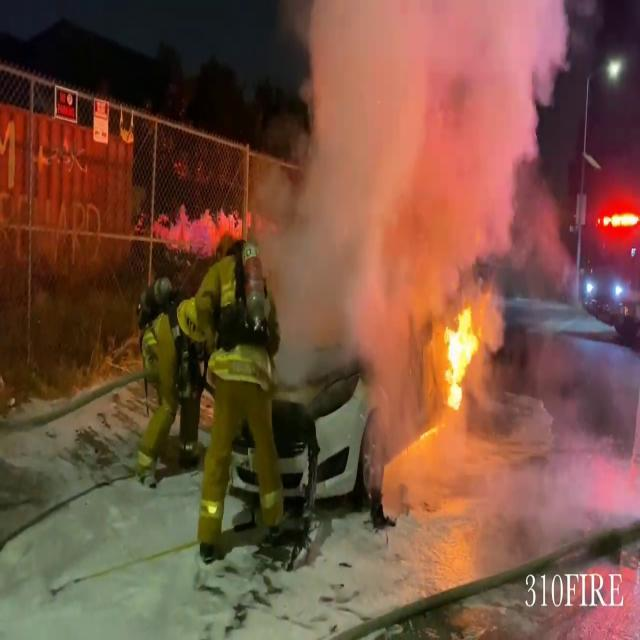Fire: (434, 298, 486, 411)
Smoke: (256, 0, 572, 324)
